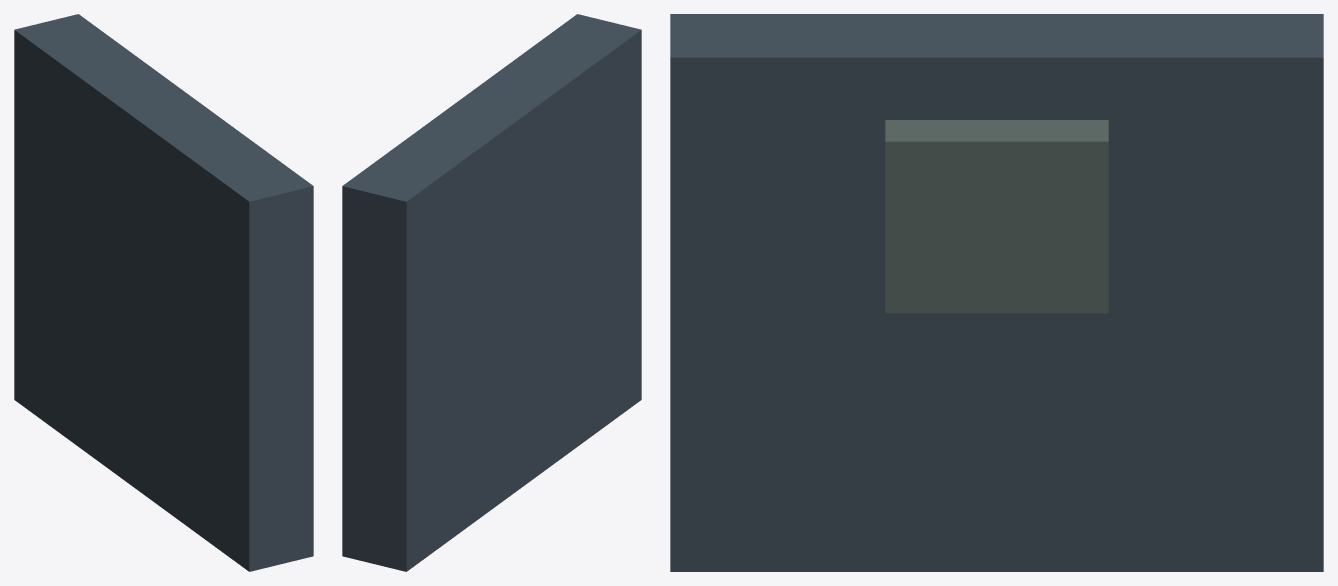
The model's file is panel_frontal.obj.
3 renders of one model, left to right at view 1: azimuth 30°, elevation 25°; view 2: azimuth 150°, elevation 25°; view 3: azimuth 270°, elevation 25°, orthographic. The views are drawn at different scales.
Parts seen in each view (by area): view 1: panel_frontal.001; view 2: panel_frontal.001; view 3: panel_frontal.001, panel_frontal.002.
Boxes of the visible parts, bbox=[...] form: panel_frontal.001: bbox=[14, 14, 313, 571]; panel_frontal.001: bbox=[342, 14, 641, 571]; panel_frontal.001: bbox=[670, 14, 1323, 571]; panel_frontal.002: bbox=[885, 120, 1108, 313].
Size of the model in its own units: 0.018 by 0.066 by 0.076.
